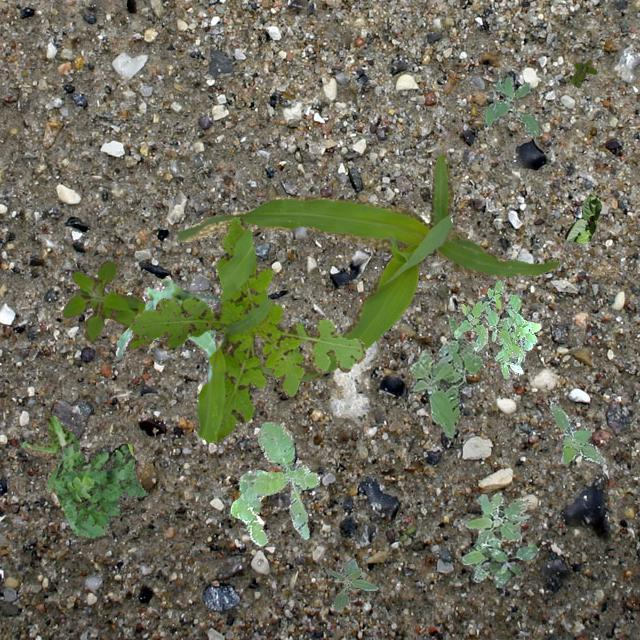crop: (177, 152, 558, 380), (114, 274, 220, 384), (564, 192, 600, 242)
weed: (128, 215, 364, 440), (230, 420, 318, 544), (408, 313, 489, 437), (452, 278, 540, 378), (53, 442, 144, 536), (62, 258, 154, 348), (460, 492, 530, 580), (21, 414, 78, 492), (548, 401, 604, 464), (482, 75, 538, 136), (324, 556, 378, 610), (480, 542, 538, 586), (570, 58, 596, 86)
